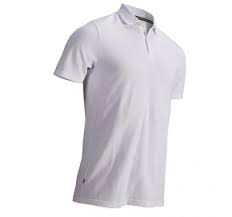C_polo shirt: (54, 7, 189, 209)
